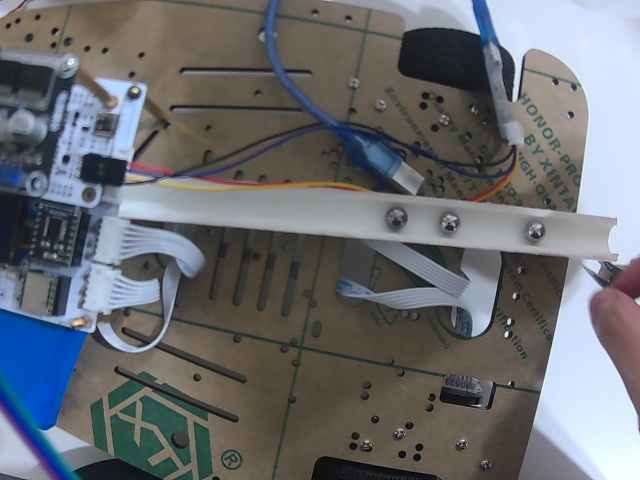steelball: (384, 207, 409, 230), (437, 211, 460, 233), (526, 220, 546, 243)
